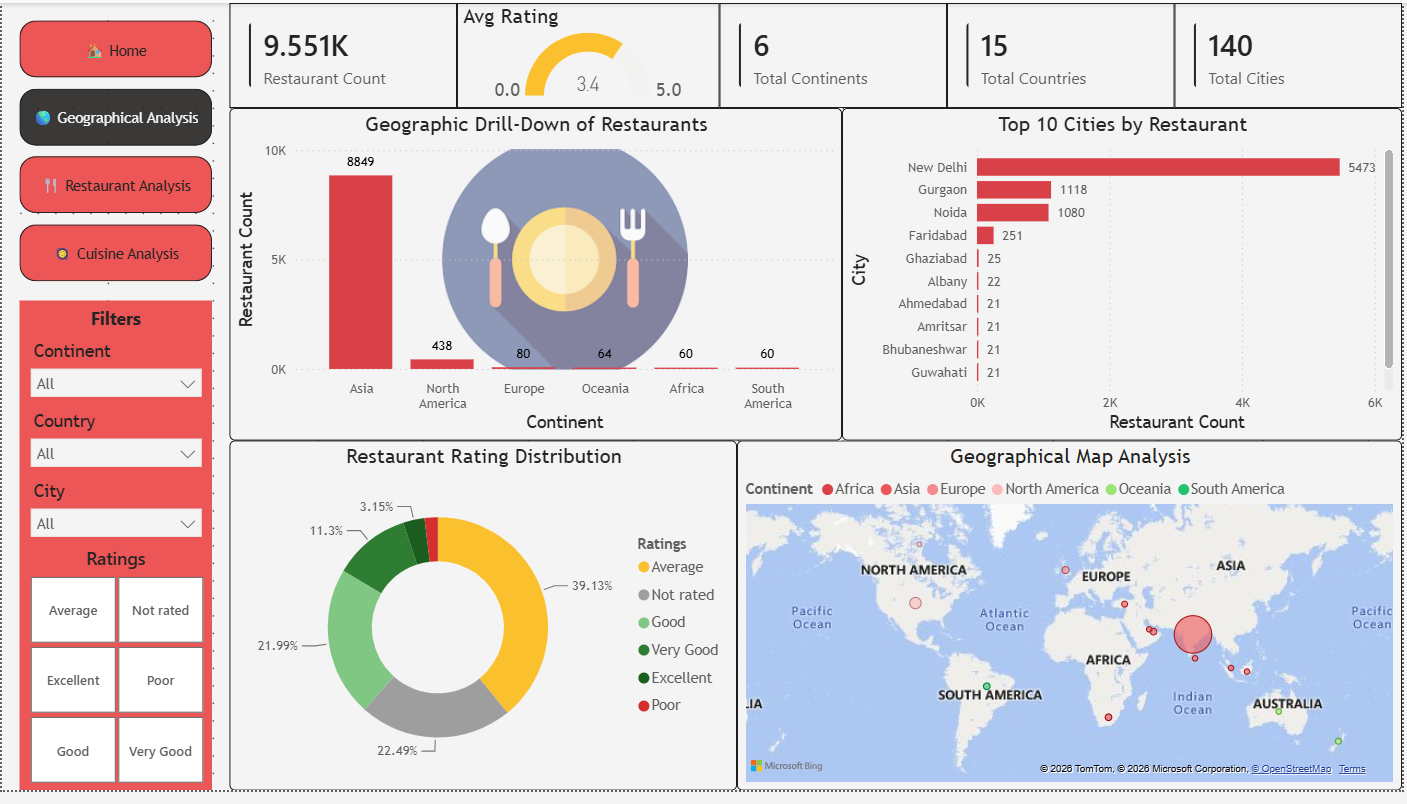

Layout of this report page (visuals, bound fields, positions):
{"tool":"powerbi","page":{"name":"🌎 Geographical Analysis","canvas":[1280,720],"ordinal":1},"visuals":[{"type":"clusteredColumnChart","title":"Geographic Drill-Down of Restaurants","fields":{"Category":["Zomato All Continents.Geography Hierarchy.Continent","Zomato All Continents.Geography Hierarchy.Country","Zomato All Continents.Geography Hierarchy.City"],"Y":["Zomato All Continents.Restaurant Count"]},"box":[208,96,560,304],"z":0},{"type":"clusteredBarChart","title":"Top 10 Cities by Restaurant ","fields":{"Y":["Zomato All Continents.Restaurant Count"],"Category":["Zomato All Continents.City"]},"box":[768,96,512,304],"z":1000},{"type":"map","title":"Geographical Map Analysis","fields":{"Category":["Zomato All Continents.Country","Zomato All Continents.City","Zomato All Continents.Restaurant Address","Zomato All Continents.Restaurant Name"],"Size":["Zomato All Continents.Restaurant Count"],"Series":["Zomato All Continents.Continent"]},"box":[672,400,608,320],"z":2000},{"type":"donutChart","title":"Restaurant Rating Distribution","fields":{"Category":["KPIs.Rating text"],"Y":["KPIs.Restaurant Count by Rating"]},"box":[208,400,464,320],"z":3000},{"type":"cardVisual","fields":{"Data":["KPIs.Restaurant Count"]},"box":[208,0,208,96],"z":4000},{"type":"cardVisual","fields":{"Data":["Zomato All Continents.Total Continents"]},"box":[656,0,208,96],"z":5000},{"type":"cardVisual","fields":{"Data":["Zomato All Continents.Total Countries"]},"box":[864,0,208,96],"z":6000},{"type":"cardVisual","fields":{"Data":["Zomato All Continents.Total Cities"]},"box":[1072,0,208,96],"z":7000},{"type":"shape","box":[16,272,176,448],"z":7000,"group":"g1"},{"type":"pageNavigator","box":[16,16,176,240],"z":8000,"group":"g1"},{"type":"group","id":"g1","title":"Group 1","box":[0,16,208,704],"z":9000},{"type":"slicer","fields":{"Values":["Zomato All Continents.Continent"]},"box":[16,304,176,64],"z":9500},{"type":"gauge","fields":{"Y":["KPIs.Average Rating"]},"box":[416,0,240,96],"z":10000},{"type":"textbox","box":[16,272,176,32],"z":10000,"group":"g1"},{"type":"slicer","fields":{"Values":["Zomato All Continents.Country"]},"box":[16,368,176,64],"z":11000,"group":"g1"},{"type":"slicer","fields":{"Values":["Zomato All Continents.City"]},"box":[16,432,176,64],"z":12000,"group":"g1"},{"type":"slicer","title":"Ratings","fields":{"Values":["KPIs.Rating text"]},"box":[0,496,208,224],"z":13000,"group":"g1"}]}

Visuals, with their boxes in screenshot pixels (x1, y1, x2, y2), scaled from the page's 1280x720 canvas onto the 1407x804 screenshot:
"Geographic Drill-Down of Restaurants" clusteredColumnChart: {"left": 229, "top": 107, "right": 844, "bottom": 447}
"Top 10 Cities by Restaurant " clusteredBarChart: {"left": 844, "top": 107, "right": 1406, "bottom": 447}
"Geographical Map Analysis" map: {"left": 739, "top": 447, "right": 1406, "bottom": 803}
"Restaurant Rating Distribution" donutChart: {"left": 229, "top": 447, "right": 739, "bottom": 803}
cardVisual - KPIs.Restaurant Count: {"left": 229, "top": 0, "right": 457, "bottom": 107}
cardVisual - Zomato All Continents.Total Continents: {"left": 721, "top": 0, "right": 950, "bottom": 107}
cardVisual - Zomato All Continents.Total Countries: {"left": 950, "top": 0, "right": 1178, "bottom": 107}
cardVisual - Zomato All Continents.Total Cities: {"left": 1178, "top": 0, "right": 1406, "bottom": 107}
shape: {"left": 18, "top": 304, "right": 211, "bottom": 803}
pageNavigator: {"left": 18, "top": 18, "right": 211, "bottom": 286}
"Group 1" group: {"left": 0, "top": 18, "right": 229, "bottom": 803}
slicer - Zomato All Continents.Continent: {"left": 18, "top": 339, "right": 211, "bottom": 411}
gauge - KPIs.Average Rating: {"left": 457, "top": 0, "right": 721, "bottom": 107}
textbox: {"left": 18, "top": 304, "right": 211, "bottom": 339}
slicer - Zomato All Continents.Country: {"left": 18, "top": 411, "right": 211, "bottom": 482}
slicer - Zomato All Continents.City: {"left": 18, "top": 482, "right": 211, "bottom": 554}
"Ratings" slicer: {"left": 0, "top": 554, "right": 229, "bottom": 803}
